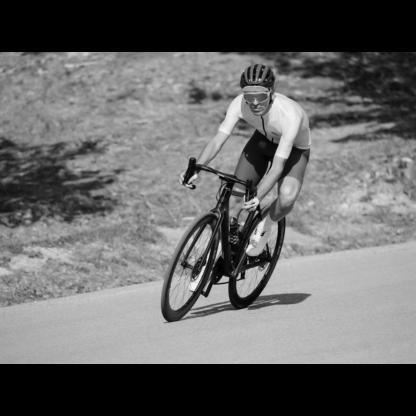Bicycle: (144, 143, 299, 331)
